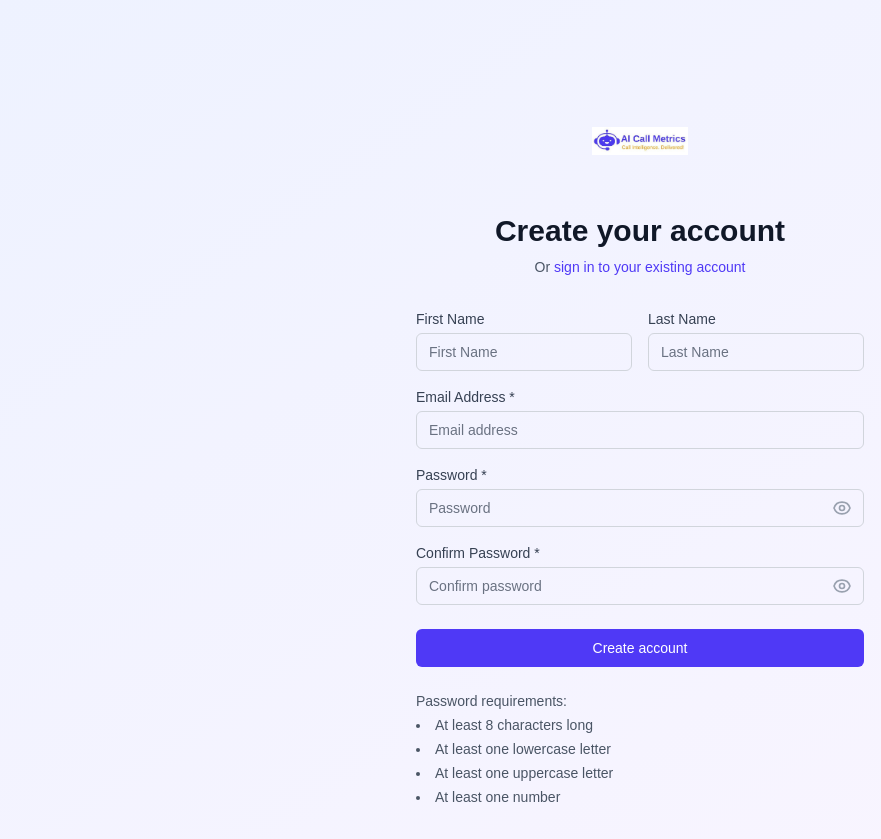
Test: RegisterForm › Password Strength Indicator › shows Fair for password with lowercase and uppercase
Type "Abcdefgh" into the password field labelled "Password *" at point(640, 508), box [416,489,864,527]
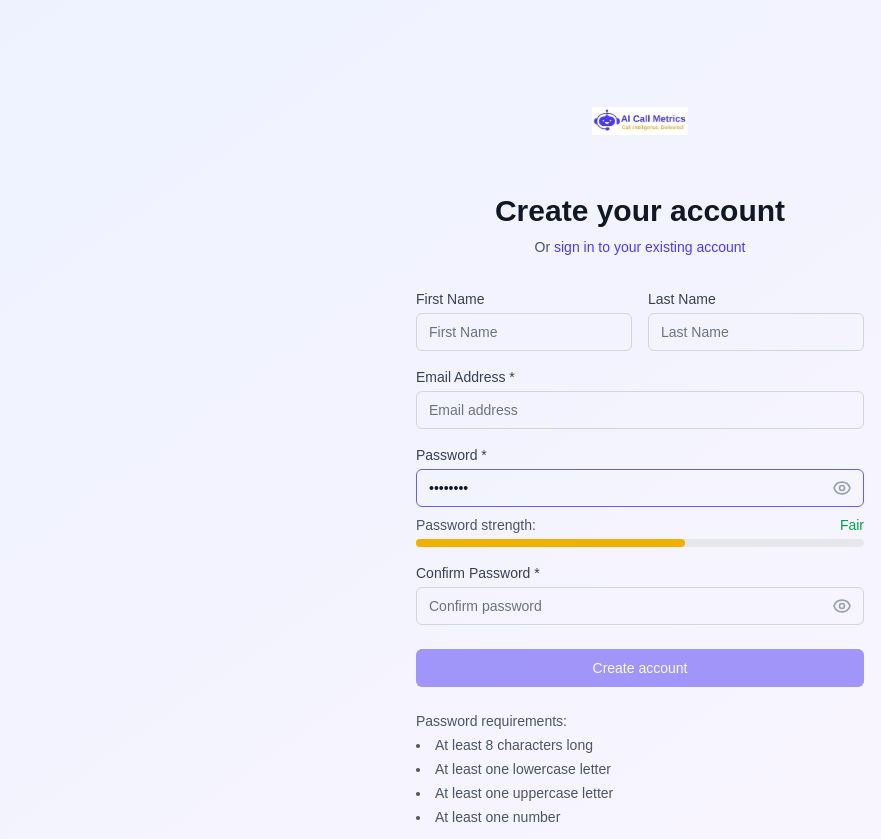
Now the text "Fair" is shown, box [840,515,864,535]
